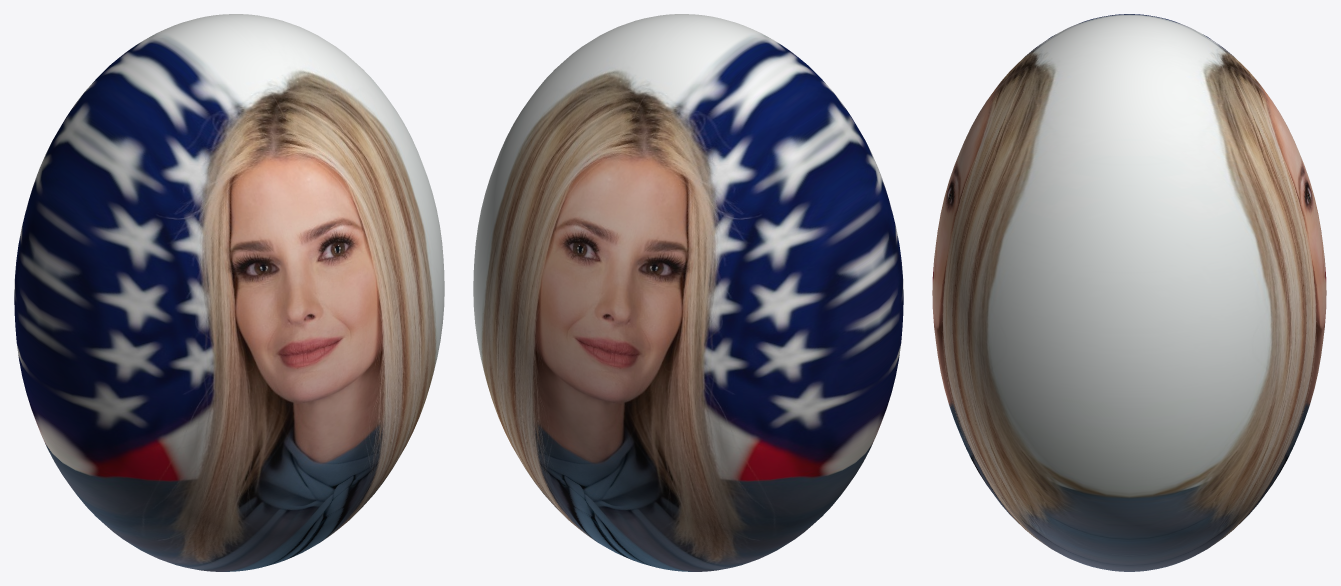
3 views of the same model, side by side, from view 1: azimuth 30°, elevation 25°; view 2: azimuth 150°, elevation 25°; view 3: azimuth 270°, elevation 25° (orthographic).
Parts seen in each view (by area): view 1: head; view 2: head; view 3: head.
Boxes of the visible parts, <box> form: head: <box>14,14,444,571</box>; head: <box>473,14,903,571</box>; head: <box>932,14,1326,571</box>.
Size of the model in its own units: 1.51 by 2 by 1.36.
1 material, 1 textured.
